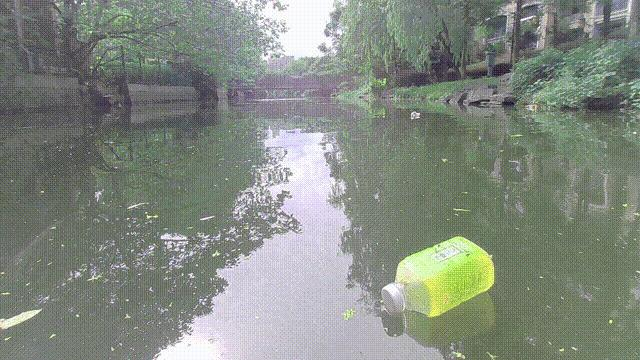Plastic: (379, 225, 495, 321), (410, 108, 421, 121), (524, 103, 538, 111), (508, 133, 524, 139)
